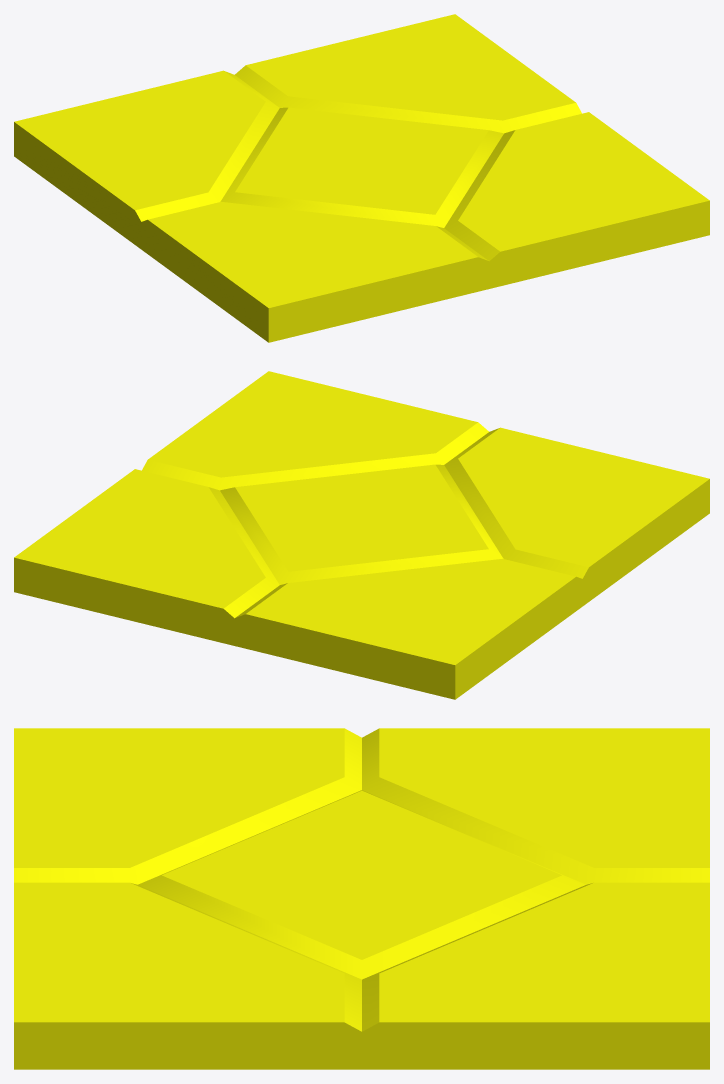
Rendered from kaykit-floor-tile-small.glb.
3 renders of one model, top to bottom at view 1: azimuth 30°, elevation 25°; view 2: azimuth 150°, elevation 25°; view 3: azimuth 270°, elevation 25°, orthographic. The views are drawn at different scales.
Parts seen in each view (by area): view 1: floor_tile_small; view 2: floor_tile_small; view 3: floor_tile_small.
Boxes of the visible parts, left/top/right/bottom form: floor_tile_small: left=14, top=14, right=709, bottom=342; floor_tile_small: left=14, top=371, right=709, bottom=699; floor_tile_small: left=14, top=728, right=709, bottom=1069.
Bounding box in the file's own units: 2 × 0.1499 × 2.
